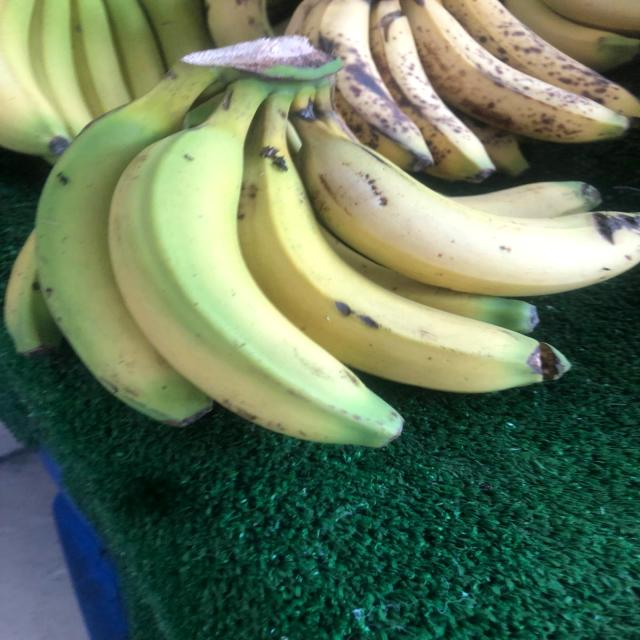banana: (21, 32, 640, 456), (281, 89, 640, 303)
